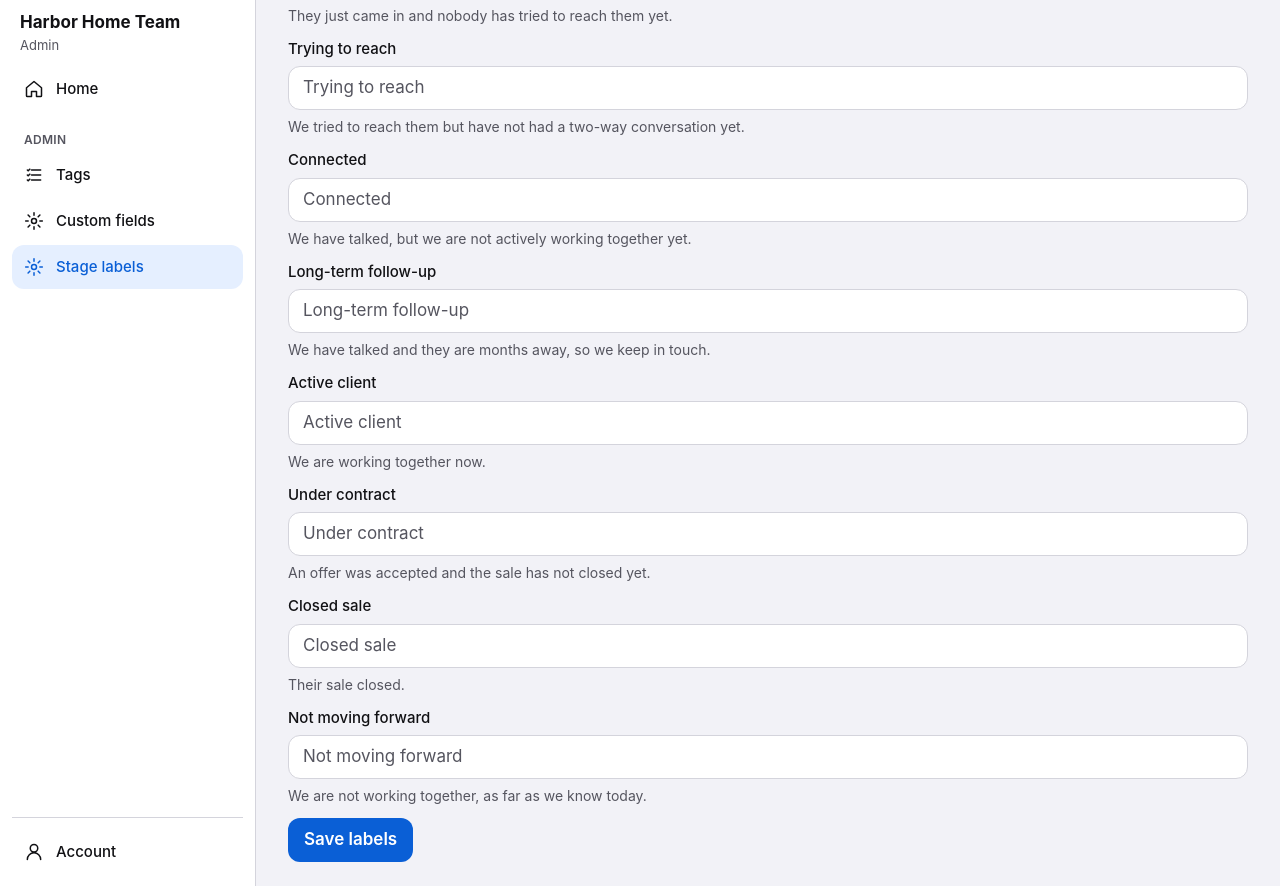
Test: Admin → Stage labels (R-PAR-13) › R-PAR-13: a refused label says why in plain words
(page scrolled)
In the field labelled "Not moving forward": coordinates (768, 757) [288, 735, 1248, 779], type "x"
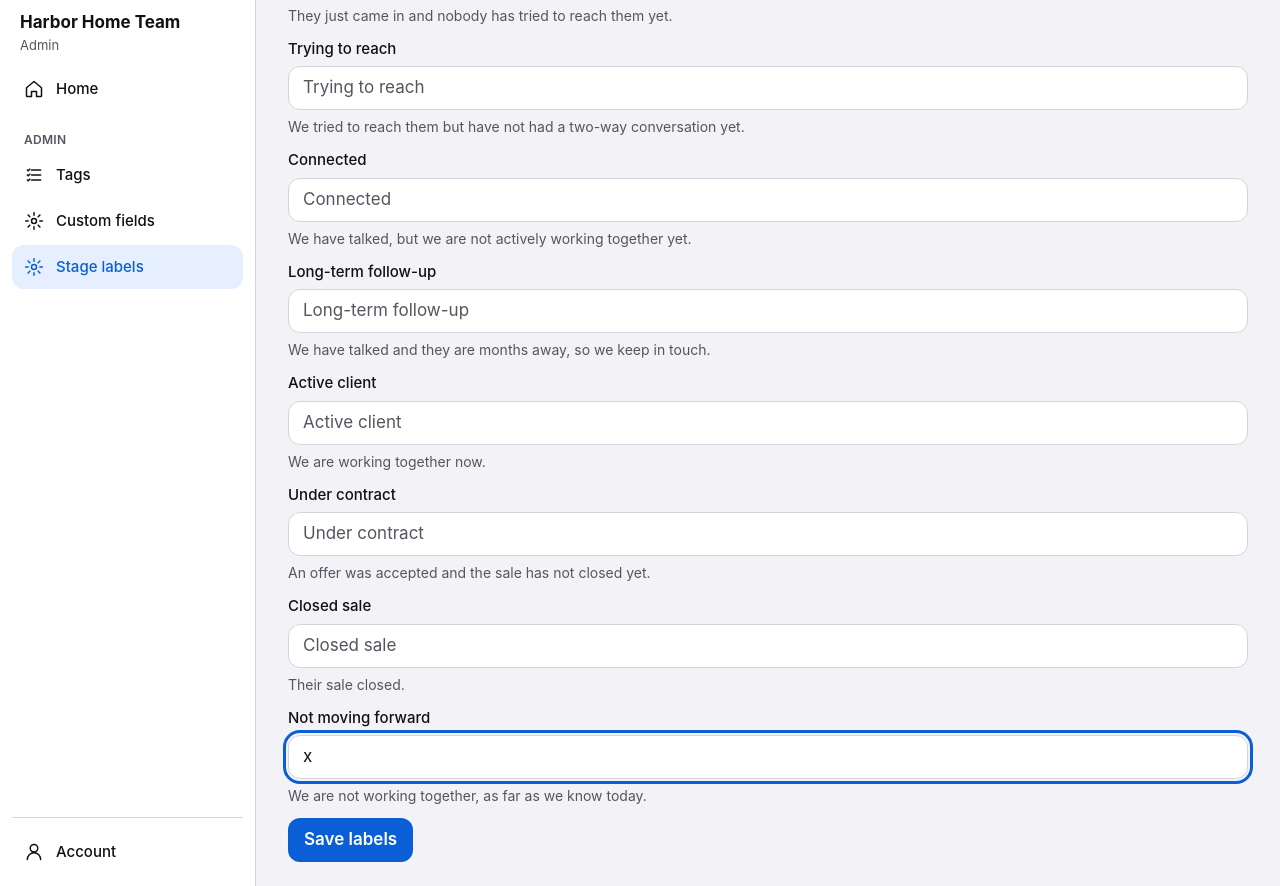
Click the button "Save labels": coordinates (351, 840) [288, 818, 413, 862]
(page scrolled)
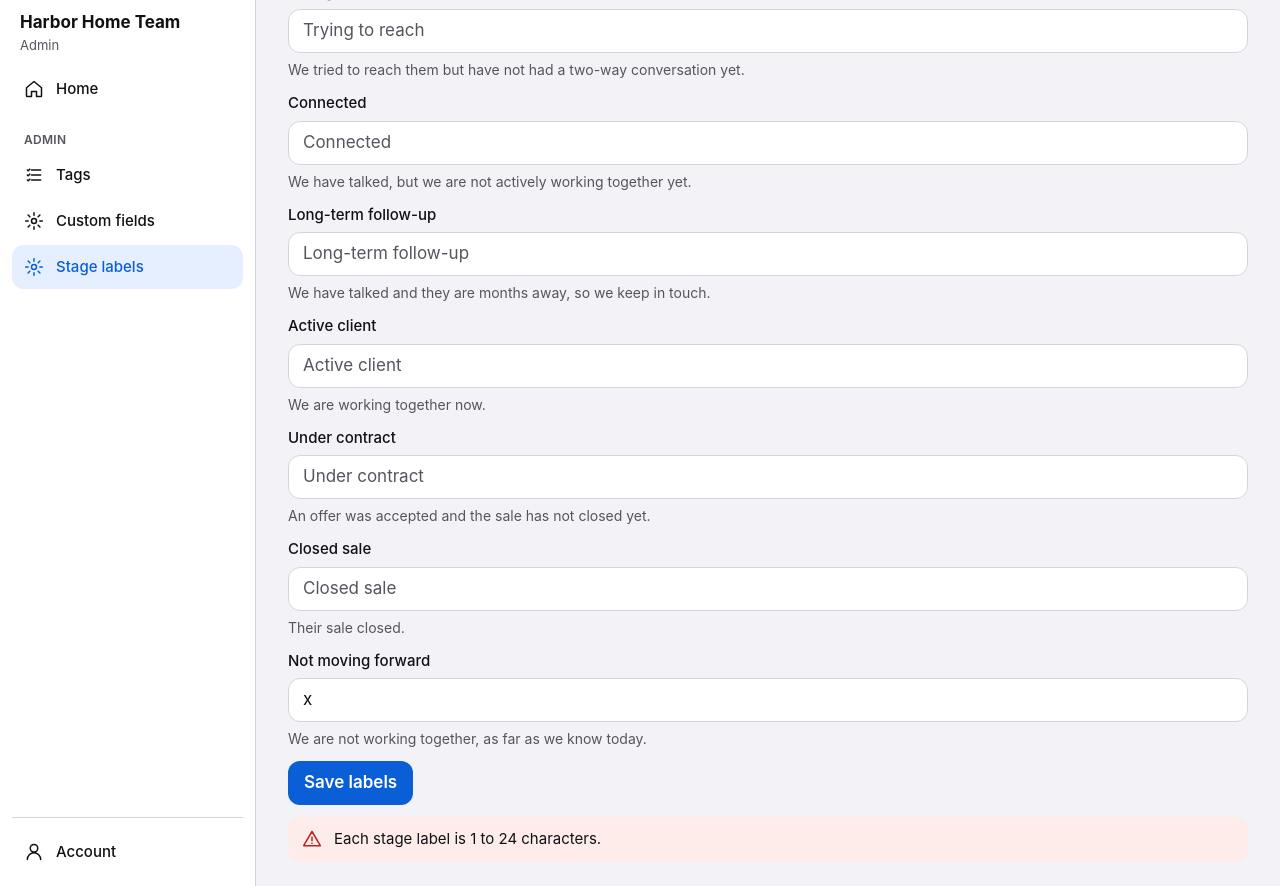
expect the text "Each stage label is 1 to 24 characters." is shown: met, box [334, 829, 601, 848]
